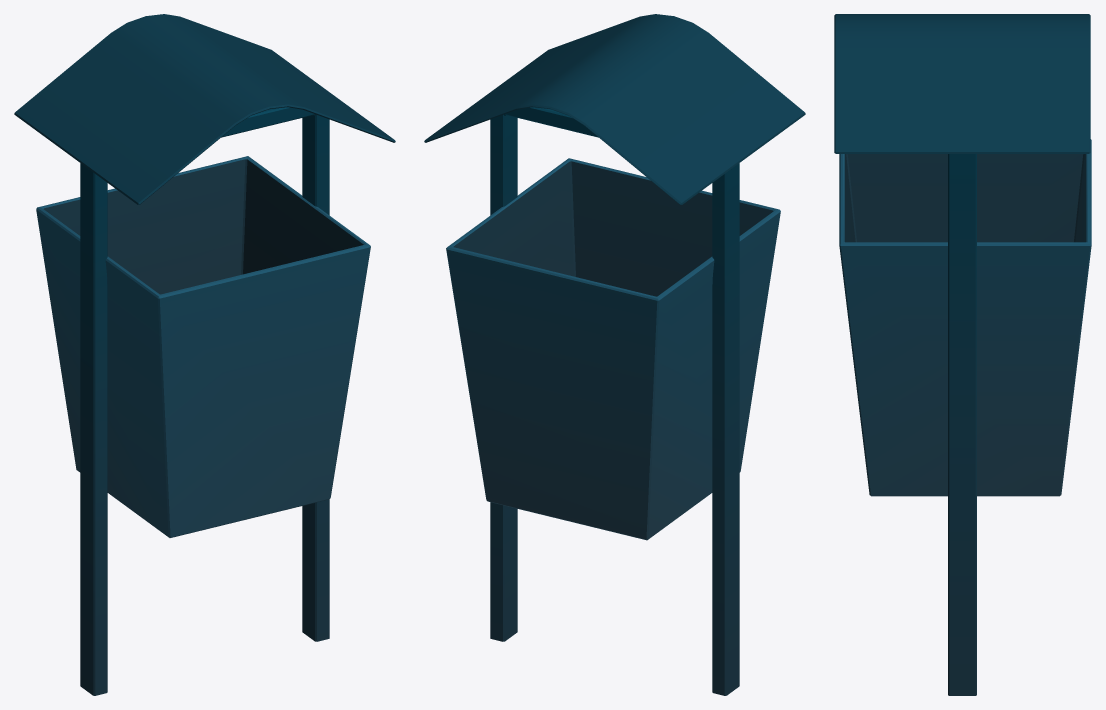
File: The urn.fbx
3 views of the same model, side by side, from view 1: azimuth 30°, elevation 25°; view 2: azimuth 150°, elevation 25°; view 3: azimuth 270°, elevation 25° (orthographic). The views are drawn at different scales.
Parts seen in each view (by area): view 1: The urn; view 2: The urn; view 3: The urn.
Boxes of the visible parts, x1,y1,x2,y2 form: The urn: (14,14,395,695); The urn: (424,14,805,695); The urn: (834,14,1091,695).
Bounding box in the file's own units: 149 × 332 × 126.
